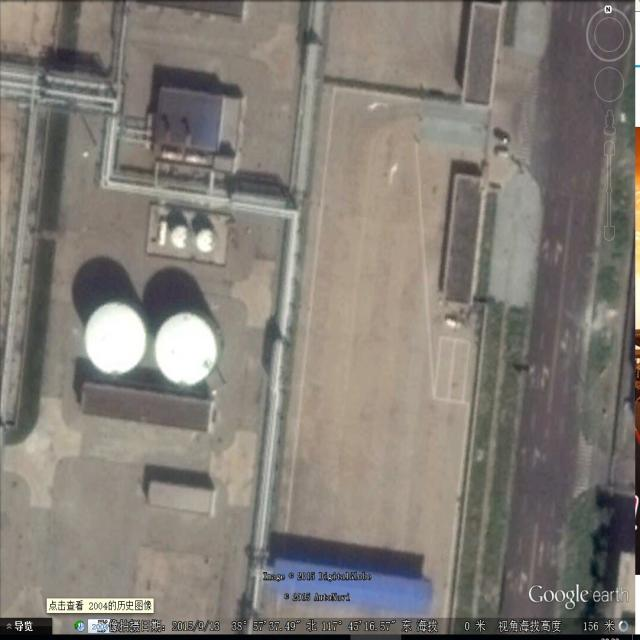oiltank: (82, 295, 153, 383), (153, 307, 222, 388), (194, 224, 219, 259), (168, 218, 194, 251)
